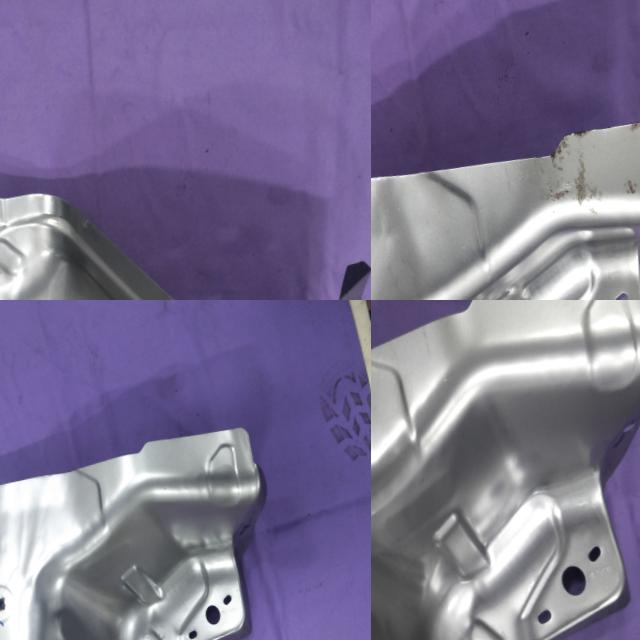Healthy: (371, 300, 640, 640), (0, 419, 301, 640), (0, 124, 371, 300)
